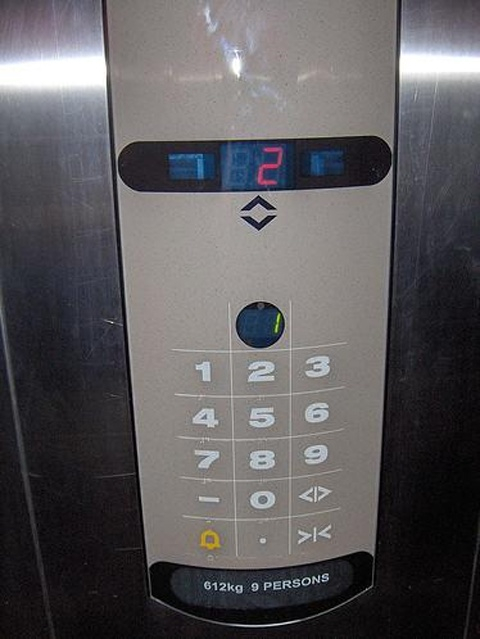-: (176, 472, 241, 524)
.: (228, 515, 293, 564)
0: (228, 475, 294, 524)
1: (170, 345, 237, 399)
2: (228, 347, 297, 400)
3: (287, 340, 355, 395)
4: (169, 391, 237, 443)
5: (228, 391, 294, 441)
6: (285, 386, 349, 440)
7: (169, 431, 238, 485)
8: (227, 436, 296, 485)
9: (286, 427, 346, 478)
alarm: (176, 515, 241, 562)
close: (285, 507, 349, 560)
led: (116, 136, 392, 193), (224, 294, 290, 352)
open: (285, 466, 345, 519)
